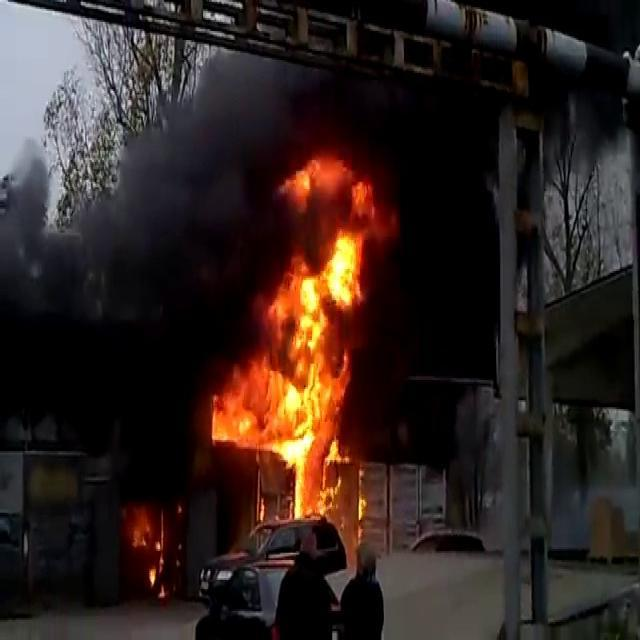Fire: (211, 153, 385, 518), (124, 497, 170, 594)
Smoke: (0, 51, 287, 417)
